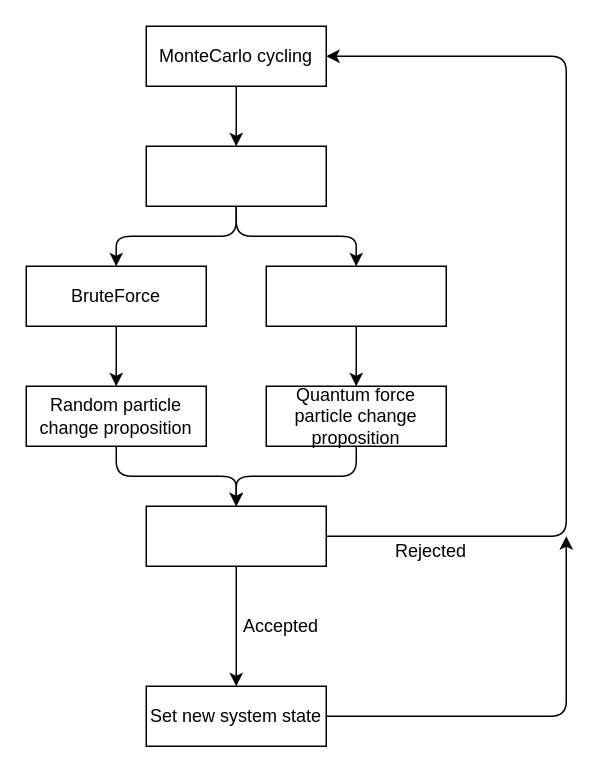
Some shapes in this 605 by 773 pixel diagram are drawn without their labels. The box of each missing label's shape, as (x1, y1, x2, y2) in pixels:
Hastings check: (145, 505, 326, 566)
Importance Sampling: (265, 265, 446, 326)
Metropolis Sampling: (145, 145, 326, 206)
